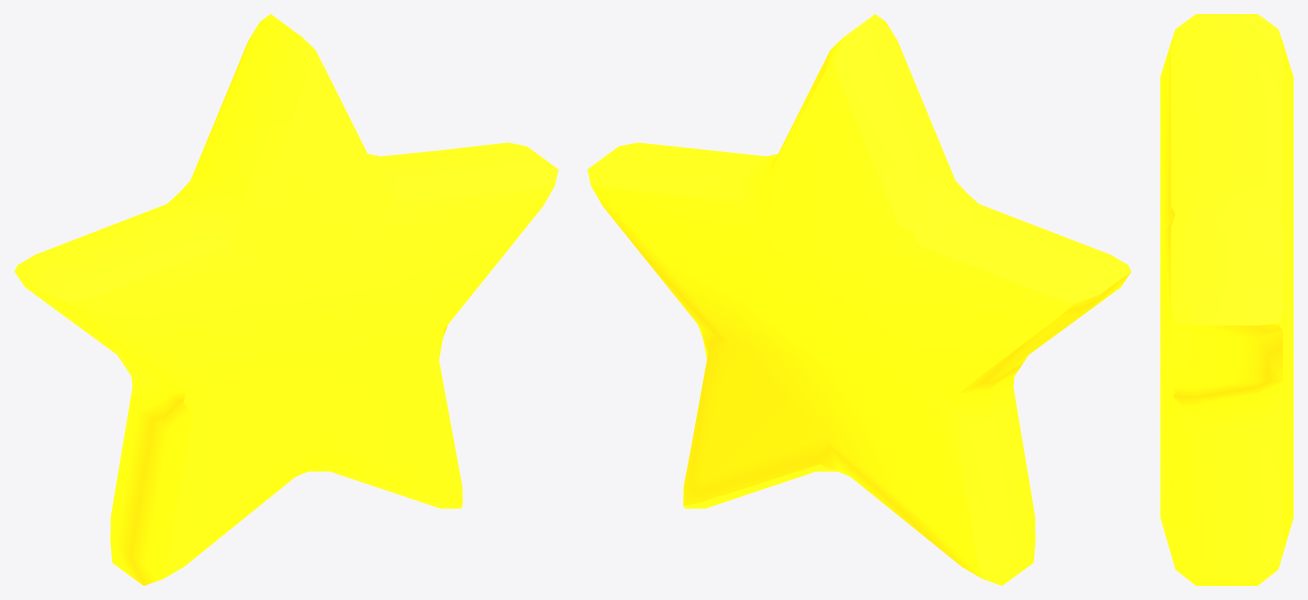
Rendered from star.glb.
3 renders of one model, left to right at view 1: azimuth 30°, elevation 25°; view 2: azimuth 150°, elevation 25°; view 3: azimuth 270°, elevation 25°, orthographic. The views are drawn at different scales.
Parts seen in each view (by area): view 1: Star; view 2: Star; view 3: Star.
Boxes of the visible parts, x1,y1,x2,y2 form: Star: (14,14,558,585); Star: (587,14,1131,585); Star: (1160,14,1293,585).
Bounding box in the file's own units: 1.12 × 1.07 × 0.26.
